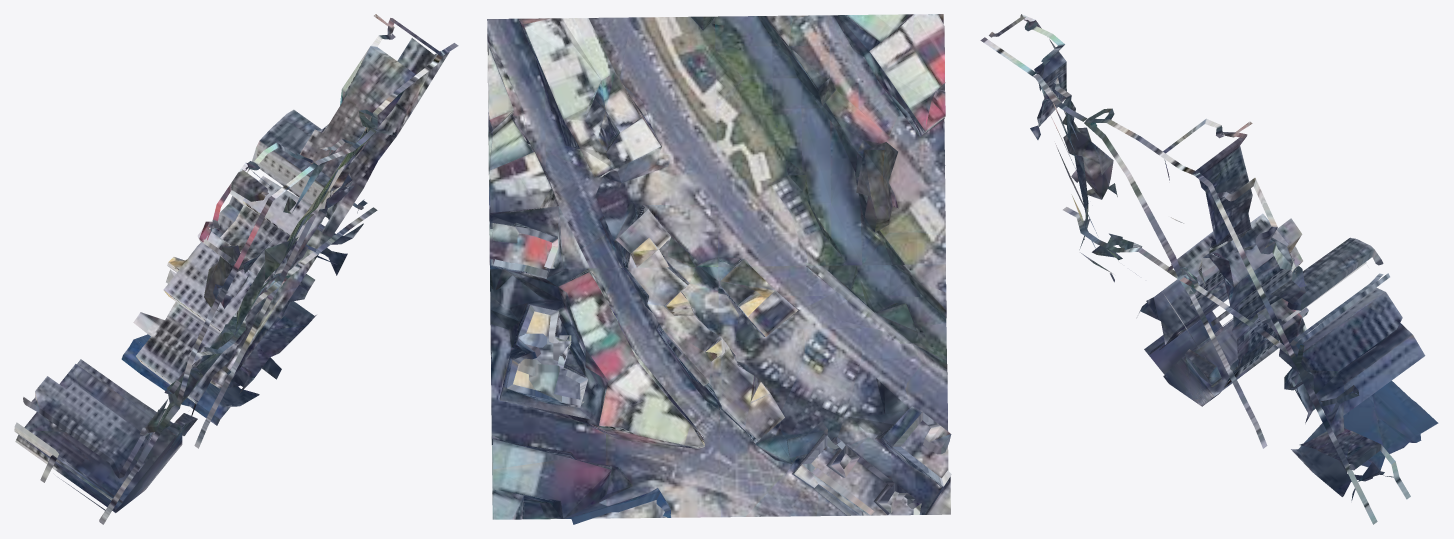
The picture shows the model from 3 angles, left to right: view 1: azimuth 30°, elevation 25°; view 2: azimuth 150°, elevation 25°; view 3: azimuth 270°, elevation 25°; orthographic projection. The views are drawn at different scales.
Bounding box in the file's own units: 169 × 150 × 151.
Materials: 1 (1 with a texture image).
